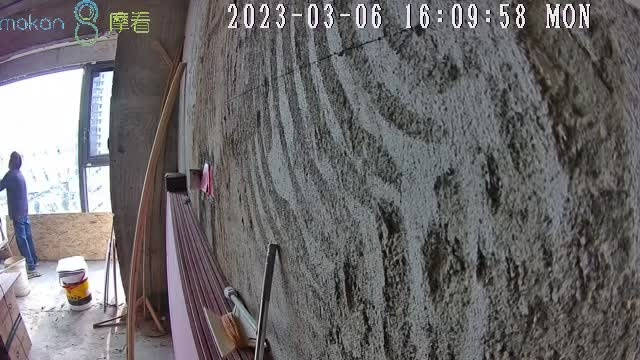people: (1, 149, 41, 278)
window: (1, 66, 112, 215)
